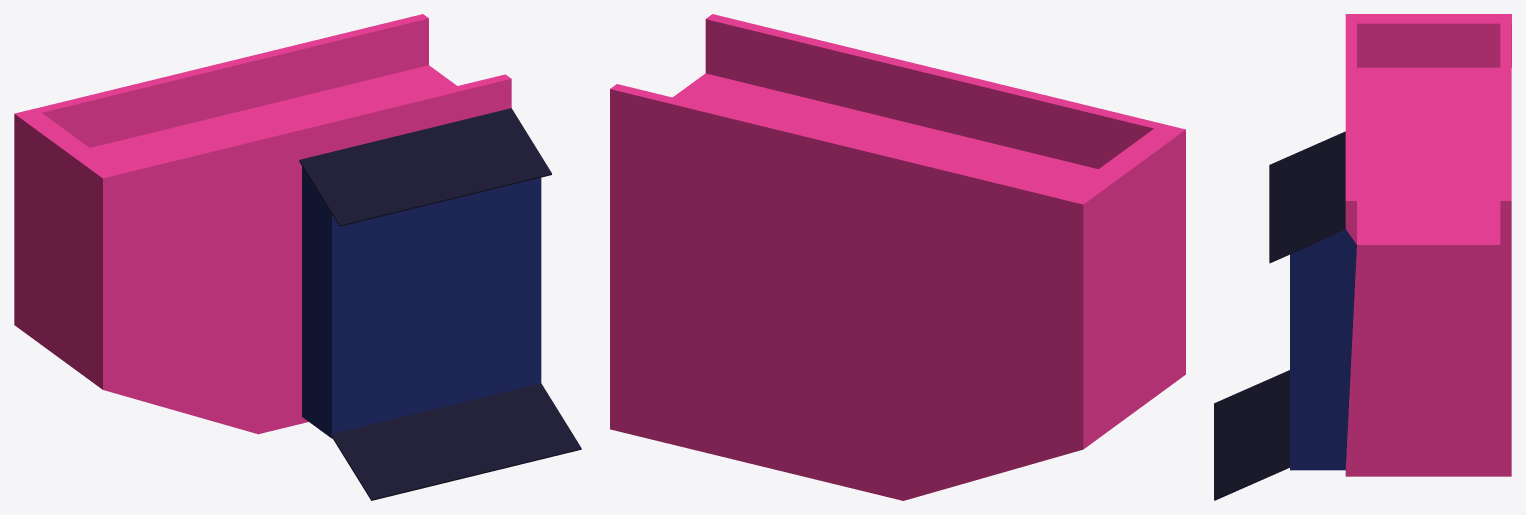
The picture shows the model from 3 angles, left to right: view 1: azimuth 30°, elevation 25°; view 2: azimuth 150°, elevation 25°; view 3: azimuth 270°, elevation 25°; orthographic projection. The views are drawn at different scales.
Parts seen in each view (by area): view 1: Mesh_0.018; view 2: Mesh_0.018; view 3: Mesh_0.018.
Boxes of the visible parts, x1,y1,x2,y2 form: Mesh_0.018: (14, 14, 581, 500); Mesh_0.018: (610, 14, 1185, 500); Mesh_0.018: (1214, 14, 1511, 500).
Bounding box in the file's own units: 4 × 2.99 × 2.69.
